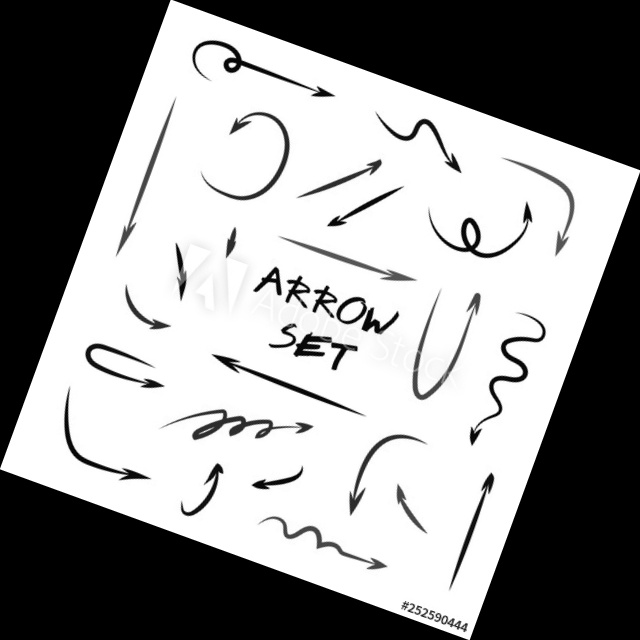arrow: (111, 190, 146, 262), (207, 346, 268, 386), (95, 451, 159, 488), (277, 68, 338, 103), (321, 152, 385, 185), (460, 293, 487, 362), (342, 456, 371, 520), (466, 471, 496, 530), (224, 109, 274, 140), (122, 304, 175, 333), (510, 201, 538, 254), (348, 541, 390, 576), (323, 203, 375, 230), (430, 136, 464, 176), (552, 207, 577, 259), (387, 480, 417, 523), (197, 458, 226, 499), (465, 410, 498, 446), (275, 416, 315, 439), (124, 374, 166, 395)
